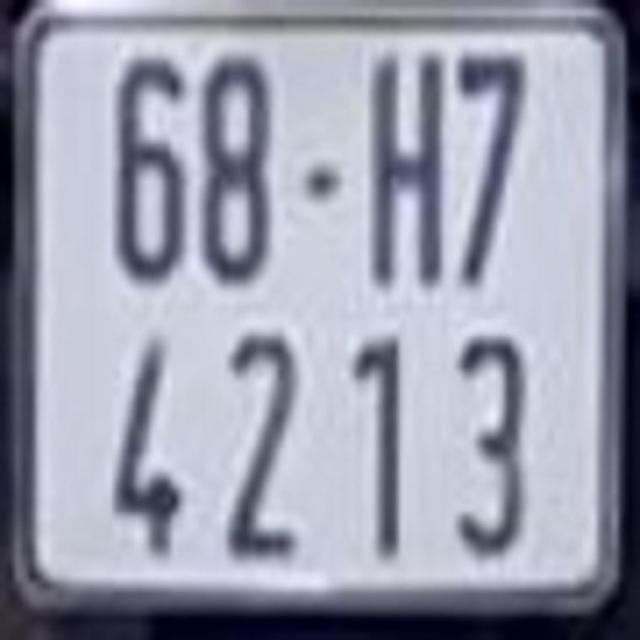1: (340, 328, 417, 571)
2: (220, 328, 302, 571)
3: (449, 324, 528, 564)
4: (104, 329, 188, 561)
6: (106, 60, 186, 284)
7: (454, 52, 526, 286)
8: (199, 54, 273, 286)
H: (368, 59, 450, 288)
